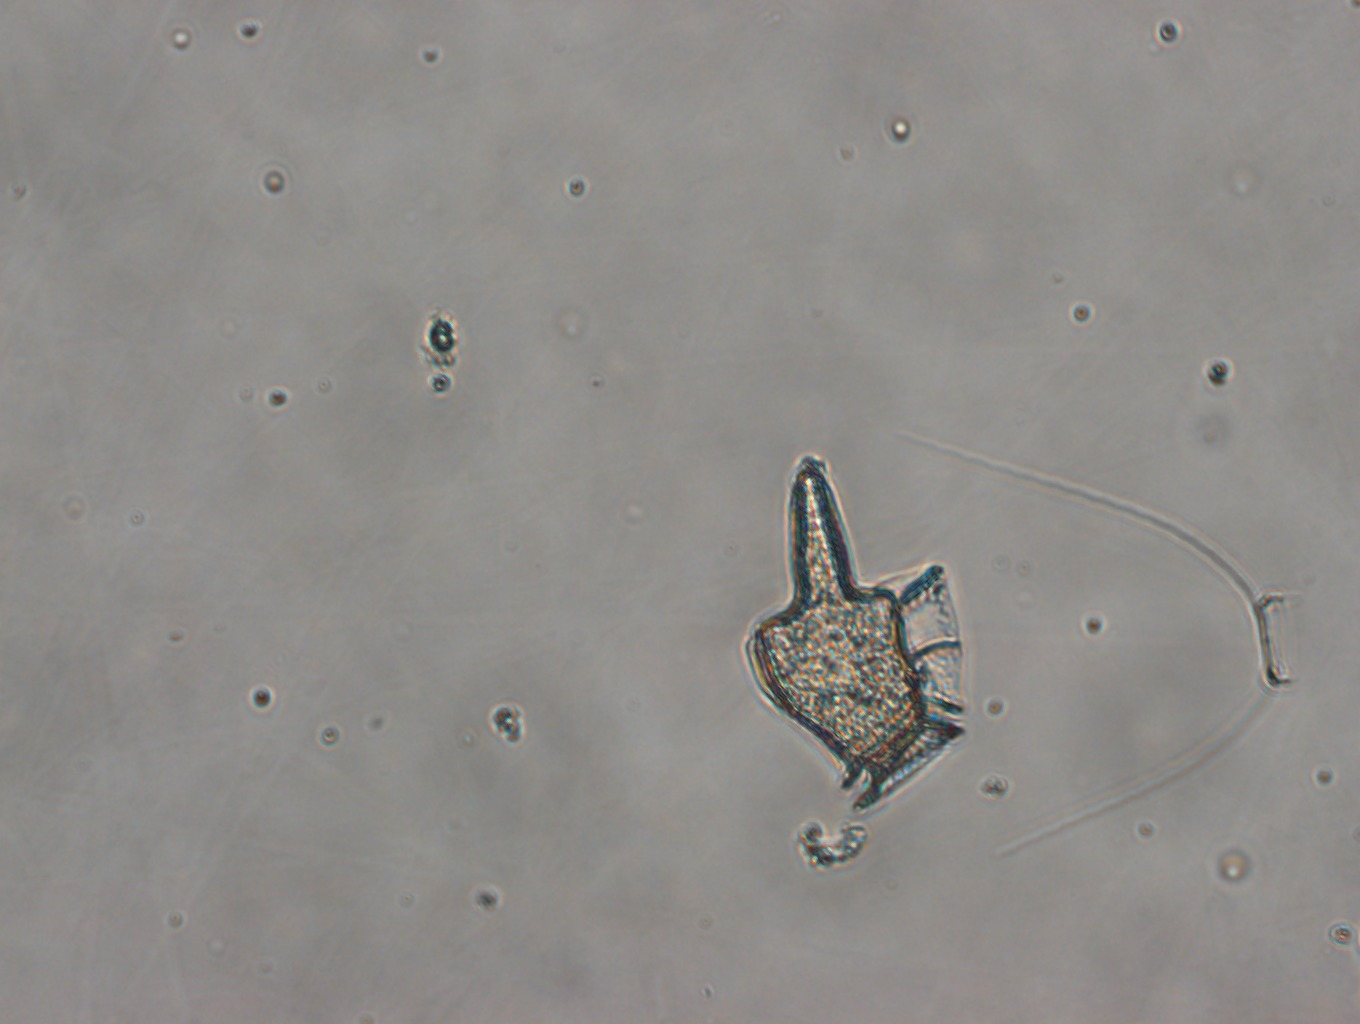chaetoceros: (907, 433, 1293, 861)
dinophysis caudata: (736, 457, 970, 815)
